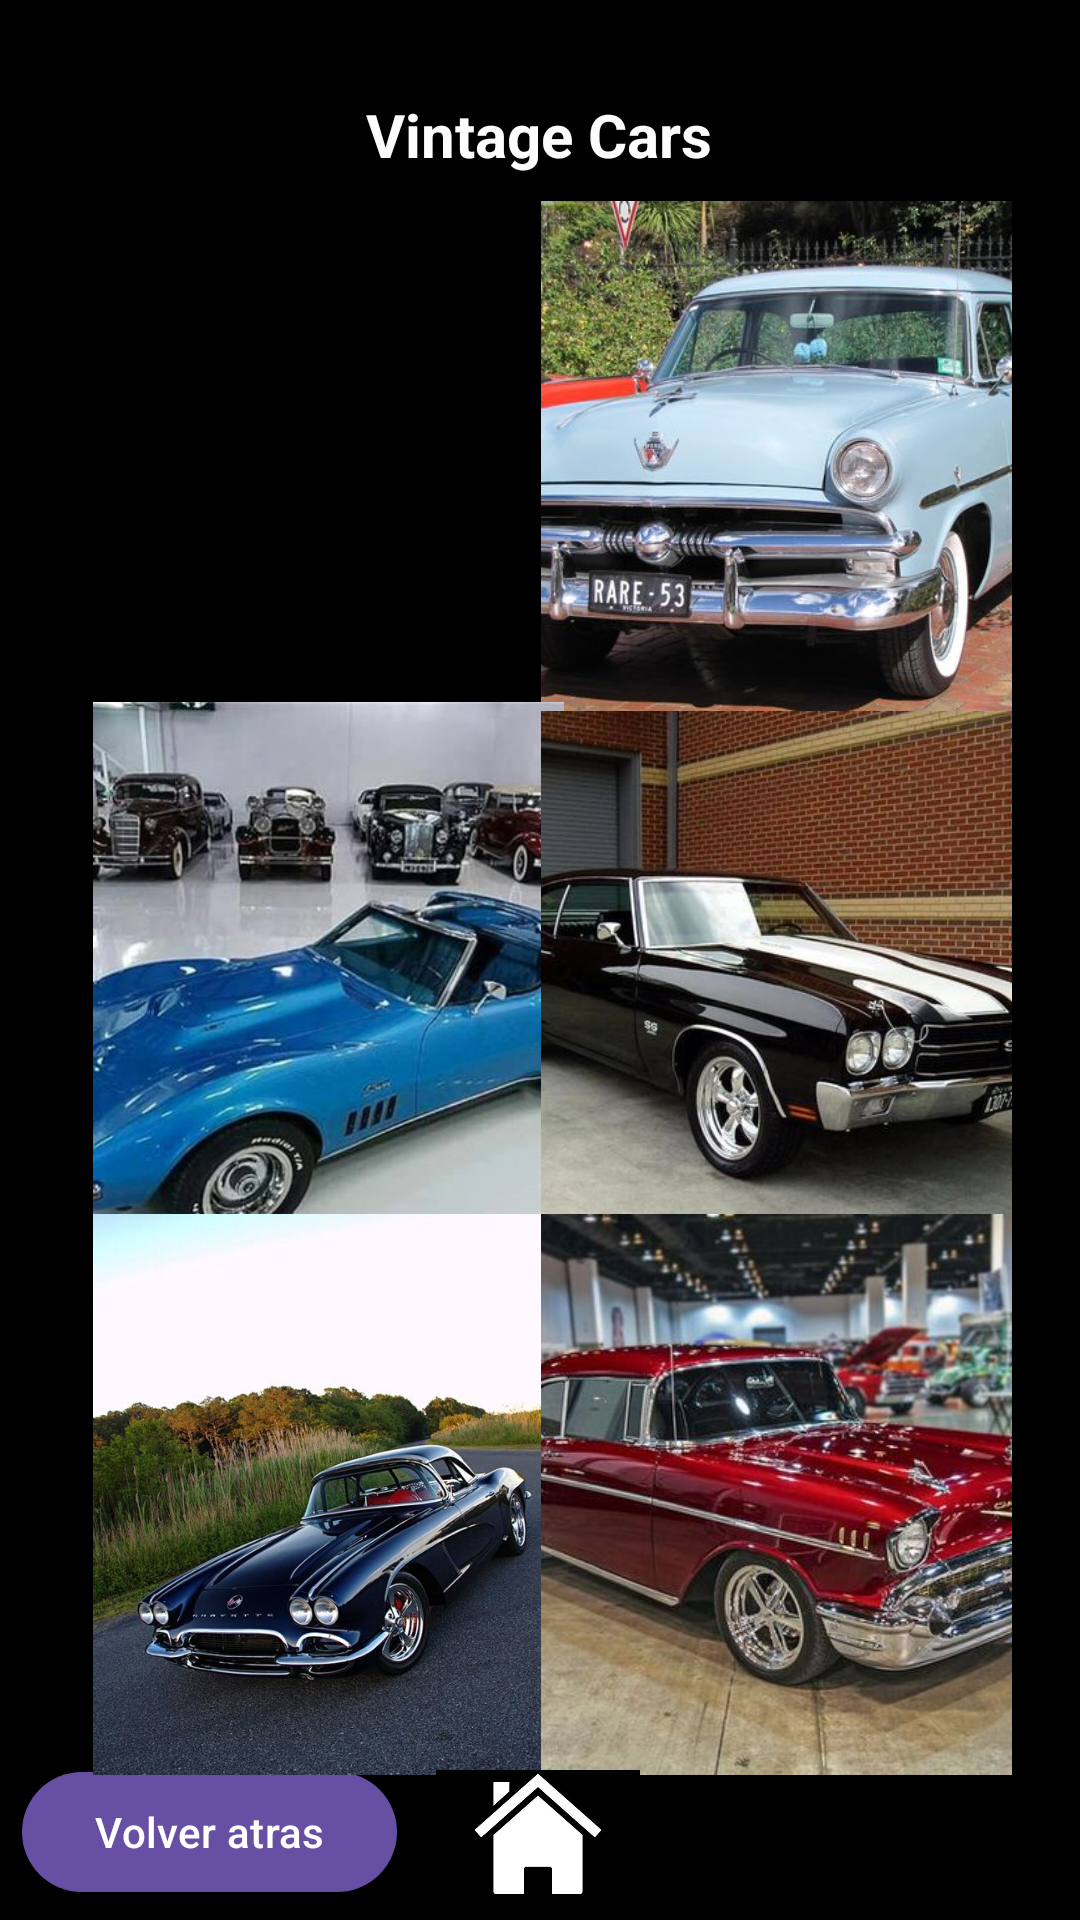

Icon bounding boxes for this 1080 × 1920 phone screenshot, format (x1, y1, x2, y2):
house: (475, 1774, 602, 1894)
